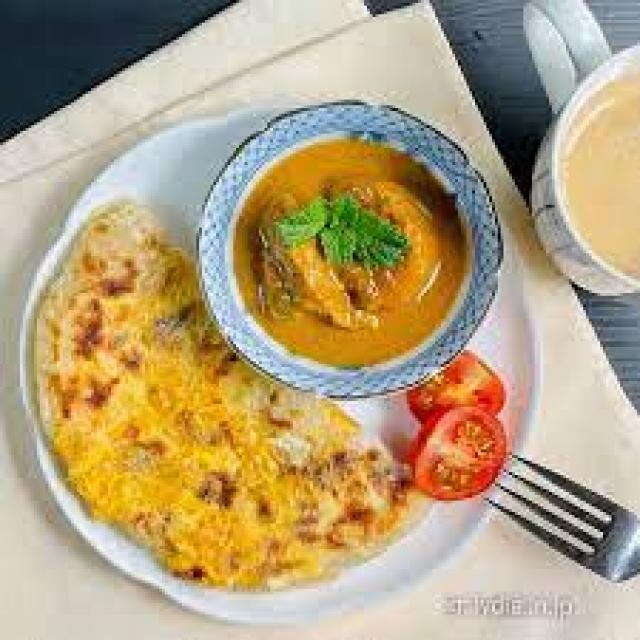Paratha: (44, 203, 412, 576)
